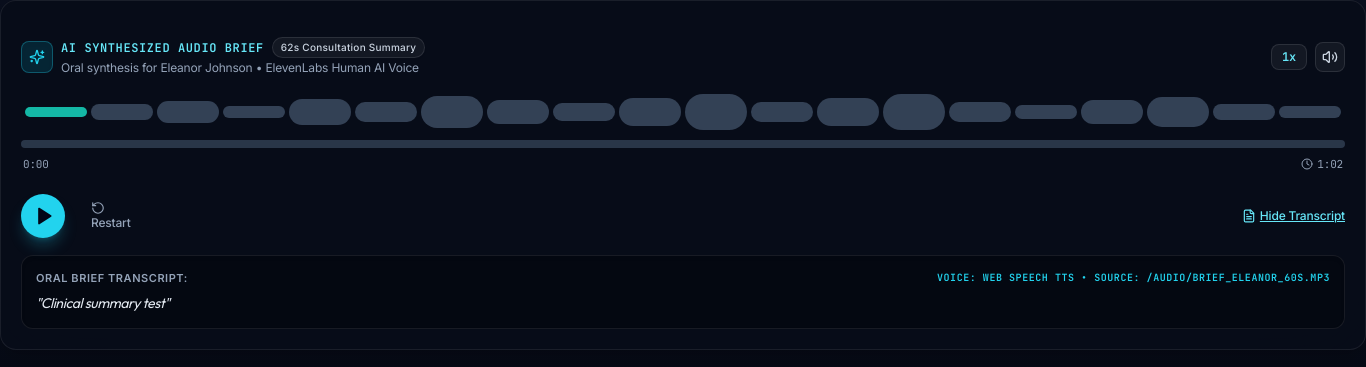
Test: TASK-P1-501: Doctor Console, Briefing UI & Audio Player Suite › 2. AudioBriefPlayer Component › cycles playback speed between 1x, 1.25x, and 1.5x
The width and height of the screenshot is (1366, 367).
Click the button with test id "audio-speed-btn": [1289, 56] box x1=1271 y1=44 x2=1307 y2=70
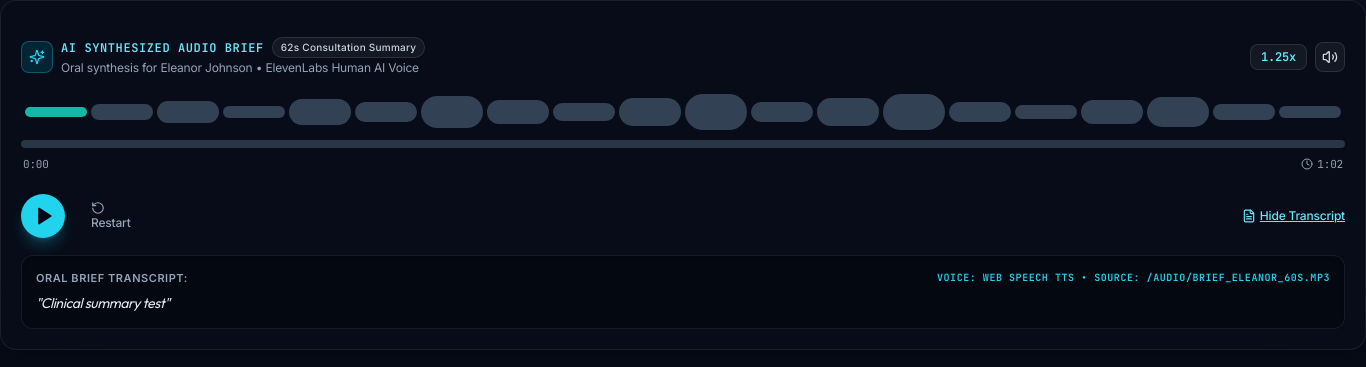
expect the button with test id "audio-speed-btn" reads "1.25x": met
Click the button with test id "audio-speed-btn": [1278, 56] box x1=1250 y1=44 x2=1307 y2=70
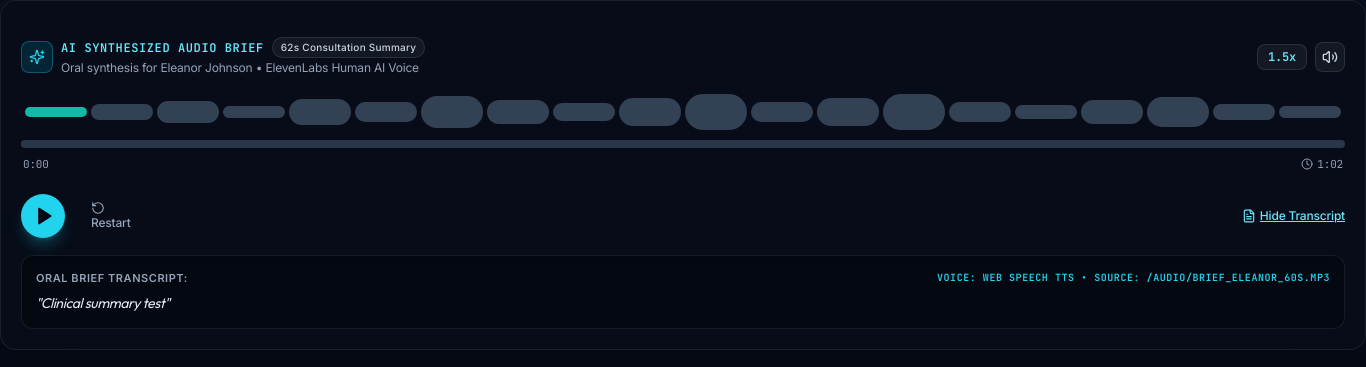
expect the button with test id "audio-speed-btn" reads "1.5x": met
Click the button with test id "audio-speed-btn": [1282, 56] box x1=1257 y1=44 x2=1307 y2=70
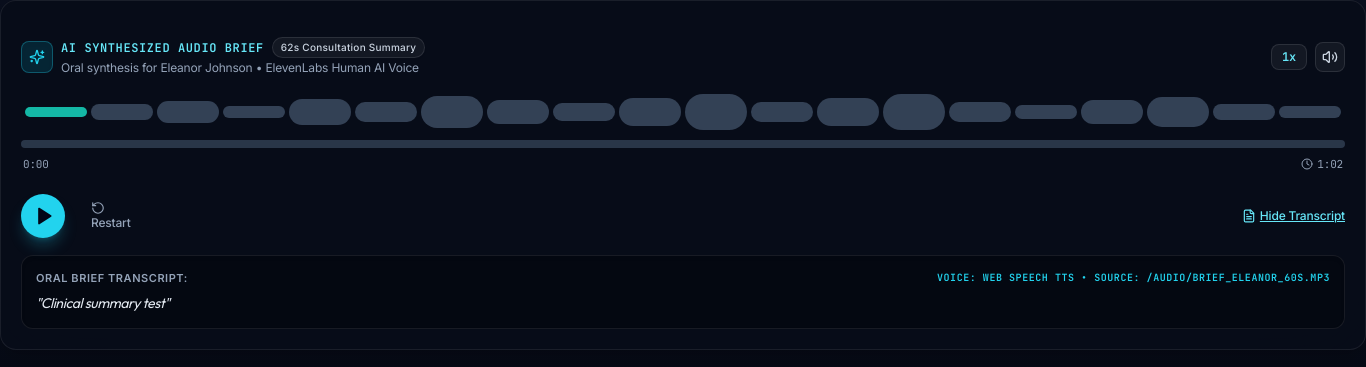
expect the button with test id "audio-speed-btn" reads "1x": met, box x1=1271 y1=44 x2=1307 y2=70
